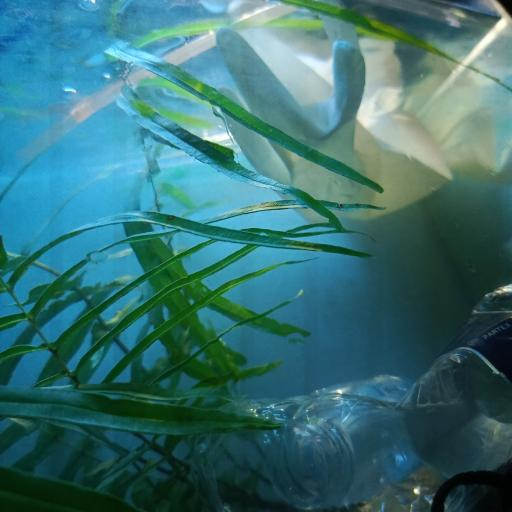glove: (211, 23, 512, 222)
mask: (423, 464, 512, 512)
plastic_bottle: (190, 282, 512, 508)
plastic_straw: (19, 0, 293, 152)
